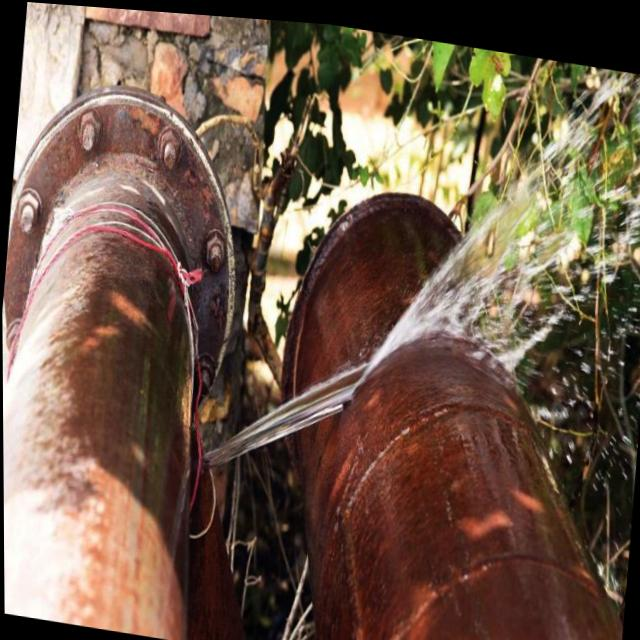leak: (205, 94, 598, 465)
